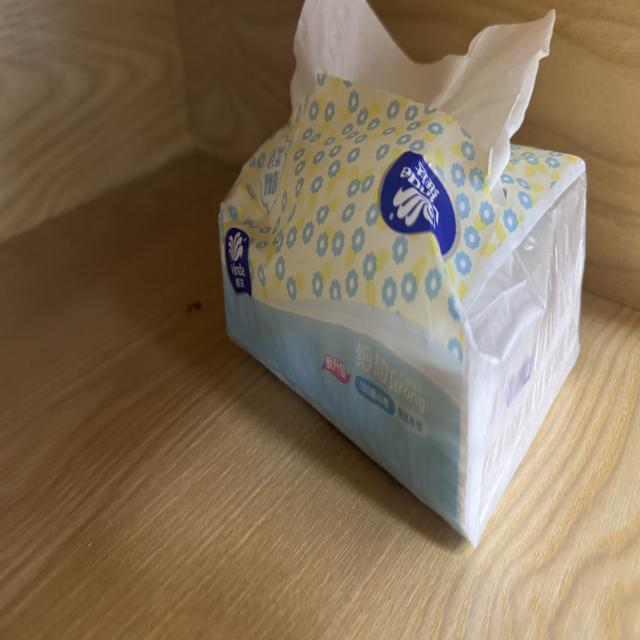tissue: (220, 0, 585, 543), (291, 0, 554, 198)
